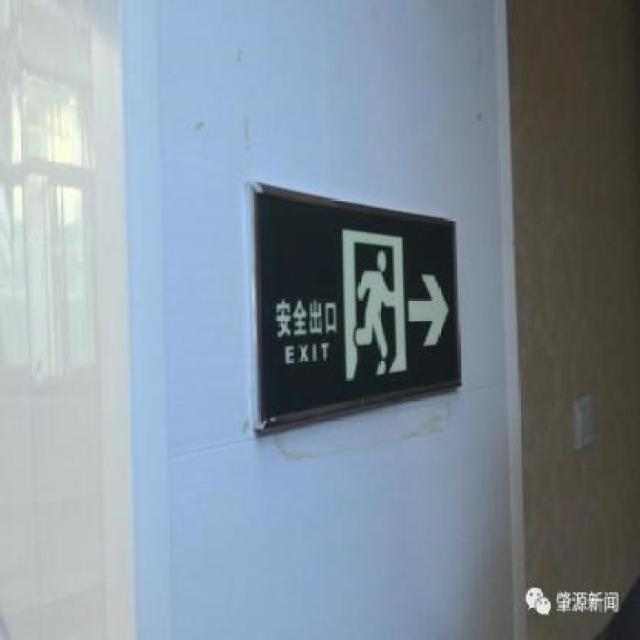exit_sign: (229, 172, 474, 436)
